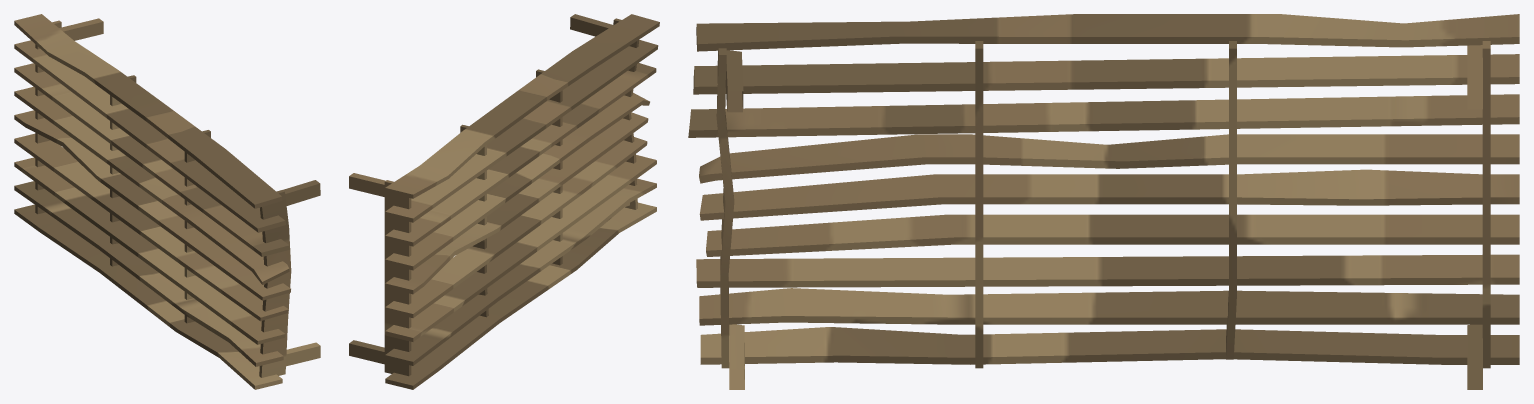
File: SM_Veh_Attach_Tank_Armour_01.fbx
The picture shows the model from 3 angles, left to right: view 1: azimuth 30°, elevation 25°; view 2: azimuth 150°, elevation 25°; view 3: azimuth 270°, elevation 25°; orthographic projection. The views are drawn at different scales.
Visible parts, largest first — view 1: SM_Veh_Attach_Tank_Armour_01; view 2: SM_Veh_Attach_Tank_Armour_01; view 3: SM_Veh_Attach_Tank_Armour_01.
Boxes of the visible parts, <box> form: SM_Veh_Attach_Tank_Armour_01: <box>14,14,320,389</box>; SM_Veh_Attach_Tank_Armour_01: <box>349,14,659,389</box>; SM_Veh_Attach_Tank_Armour_01: <box>688,14,1519,389</box>.
Bounding box in the file's own units: 31.48 × 76.73 × 176.
